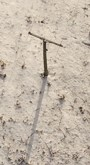pole: (21, 27, 74, 81)
